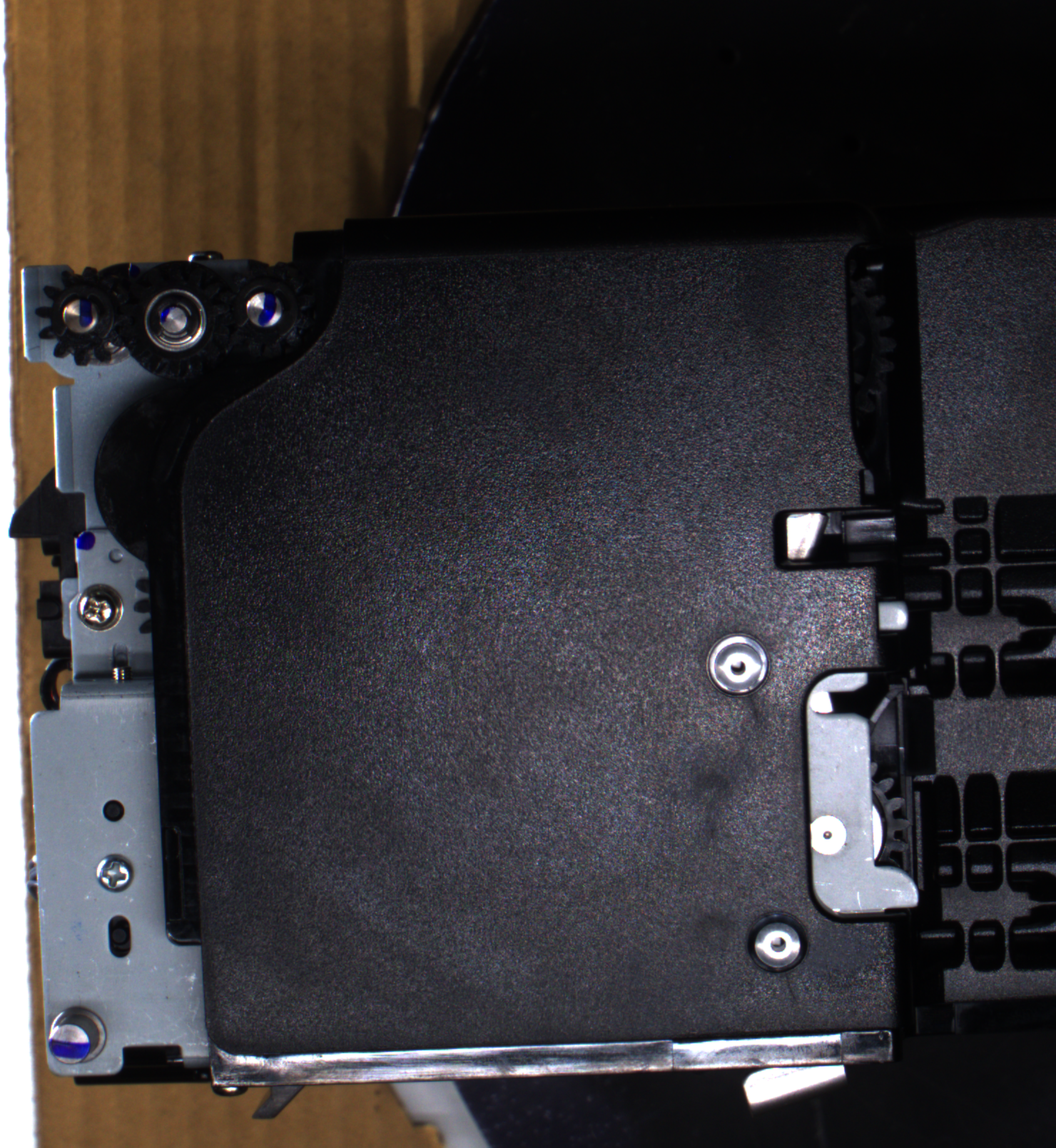centre_pin_presence: (736, 1047, 854, 1112)
centre_plate_presence: (799, 661, 928, 930)
centre_screw_presence: (702, 626, 775, 703), (741, 905, 812, 980)
gear1_presence: (35, 263, 134, 369)
gear2_presence: (119, 260, 232, 381)
gear3_presence: (211, 259, 313, 359)
side_screw_presence: (74, 581, 125, 632), (91, 851, 136, 893)
slanting_pin_presence: (44, 1003, 114, 1074)
